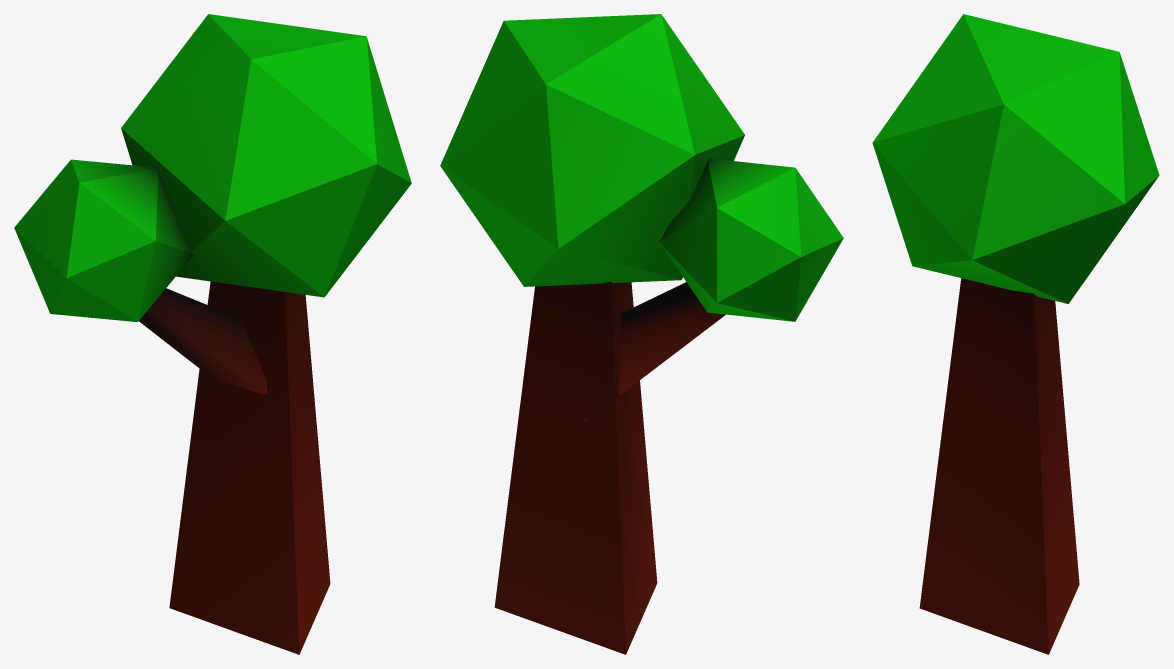
The model's file is tree3.fbx.
3 views of the same model, side by side, from view 1: azimuth 30°, elevation 25°; view 2: azimuth 150°, elevation 25°; view 3: azimuth 270°, elevation 25° (orthographic).
Parts seen in each view (by area): view 1: tree.004; view 2: tree.004; view 3: tree.004.
Part boxes in pixels (x1,y1,x2,y2): tree.004: (14, 14, 411, 654); tree.004: (440, 14, 843, 654); tree.004: (872, 14, 1159, 654).
Size of the model in its own units: 413 by 655 by 293.
